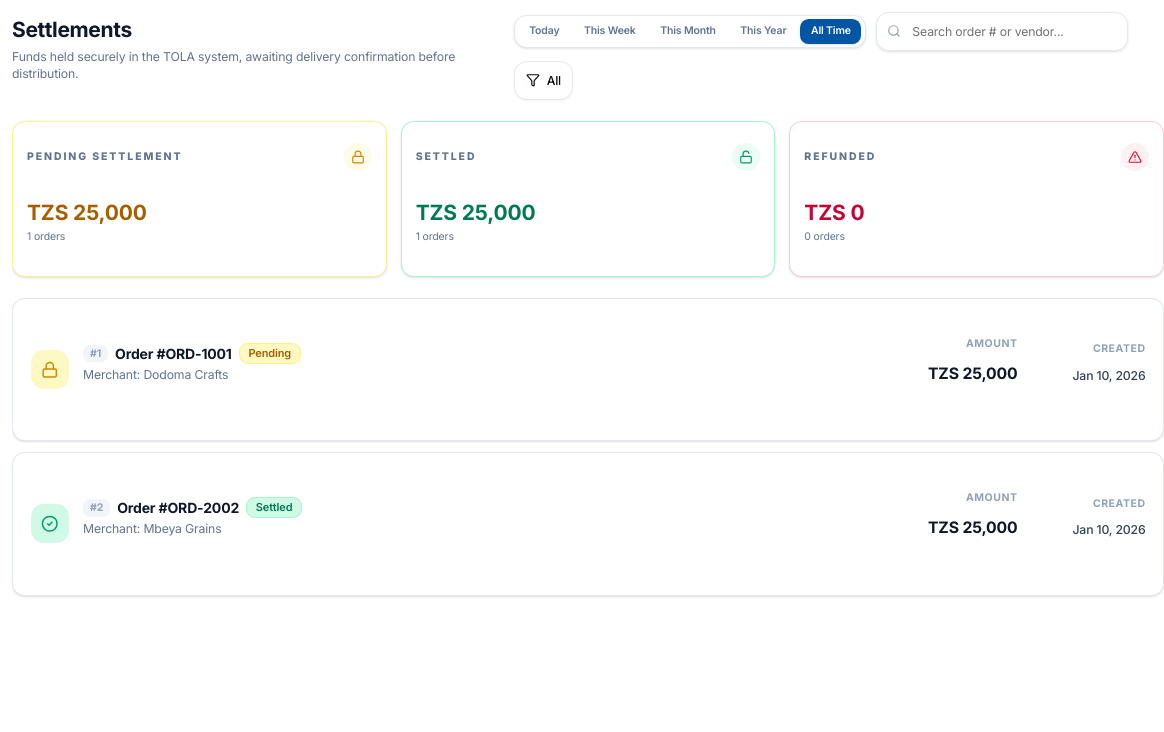
Test case: FinanceSettlementsTab › search and status filter › filters by shop name
In the field with placeholder "Search order # or vendor...": (1002, 31) [876,12,1128,50], type "mbeya"
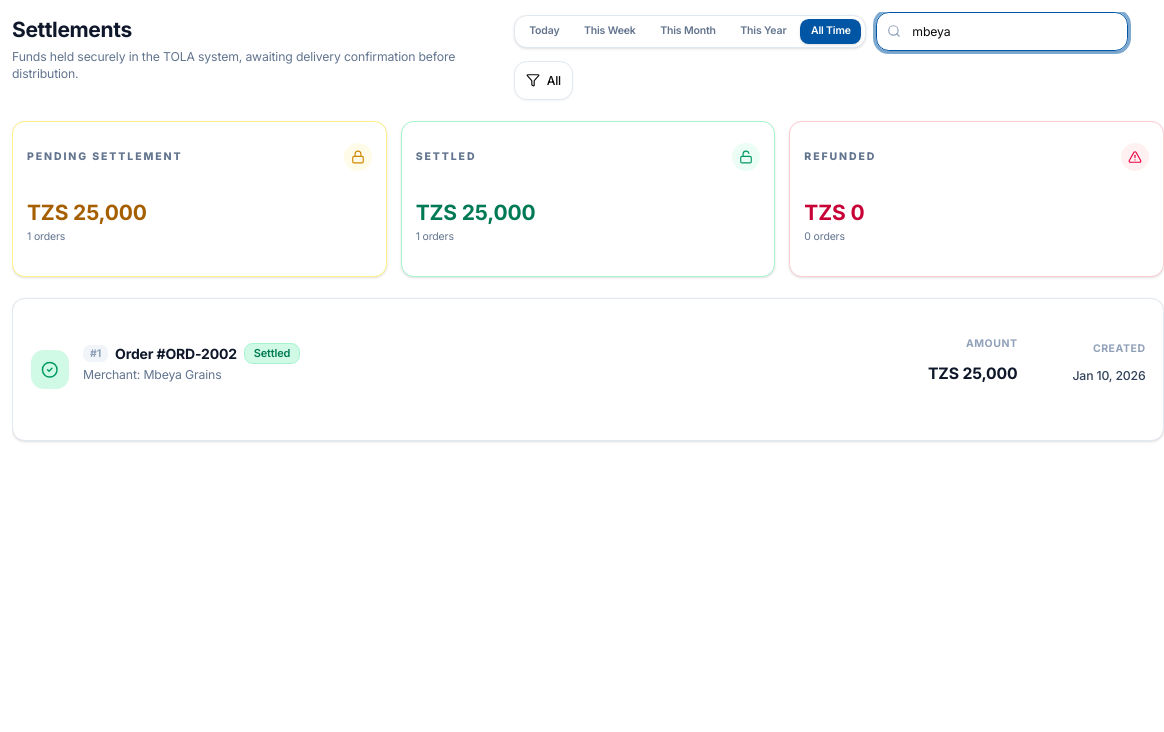
Expected: the text "Order #ORD-2002" is shown, [115,344,237,363]
Expected: the text "Order #ORD-1001" is gone
